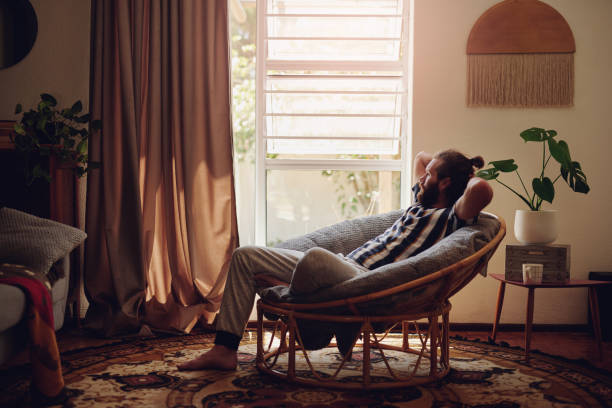without mask: (416, 151, 460, 207)
